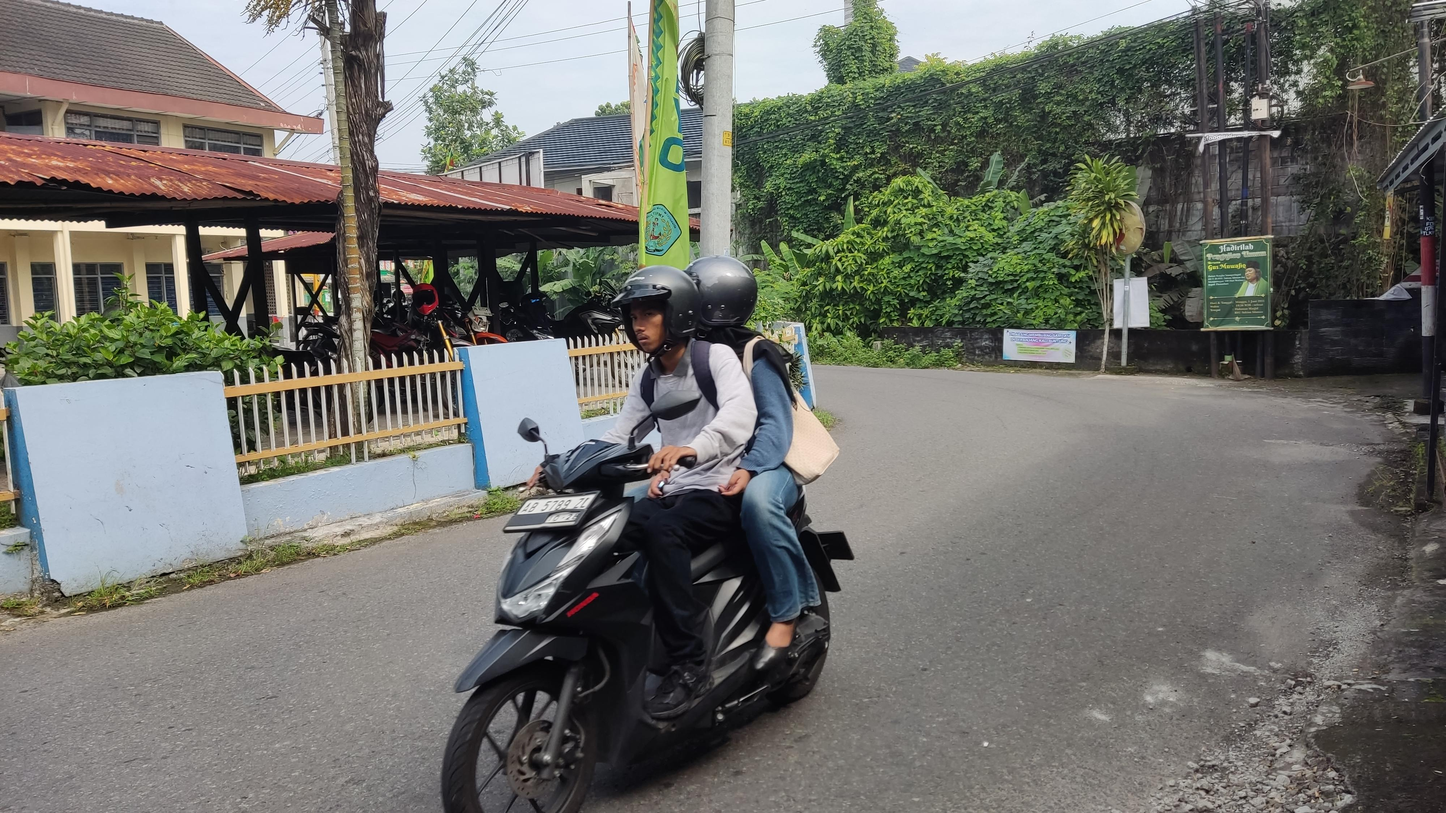helm: (607, 255, 704, 363), (700, 251, 764, 341)
riding: (429, 249, 862, 813)
